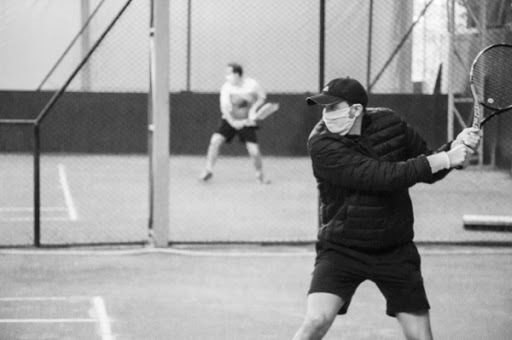with_mask: (317, 99, 362, 134)
